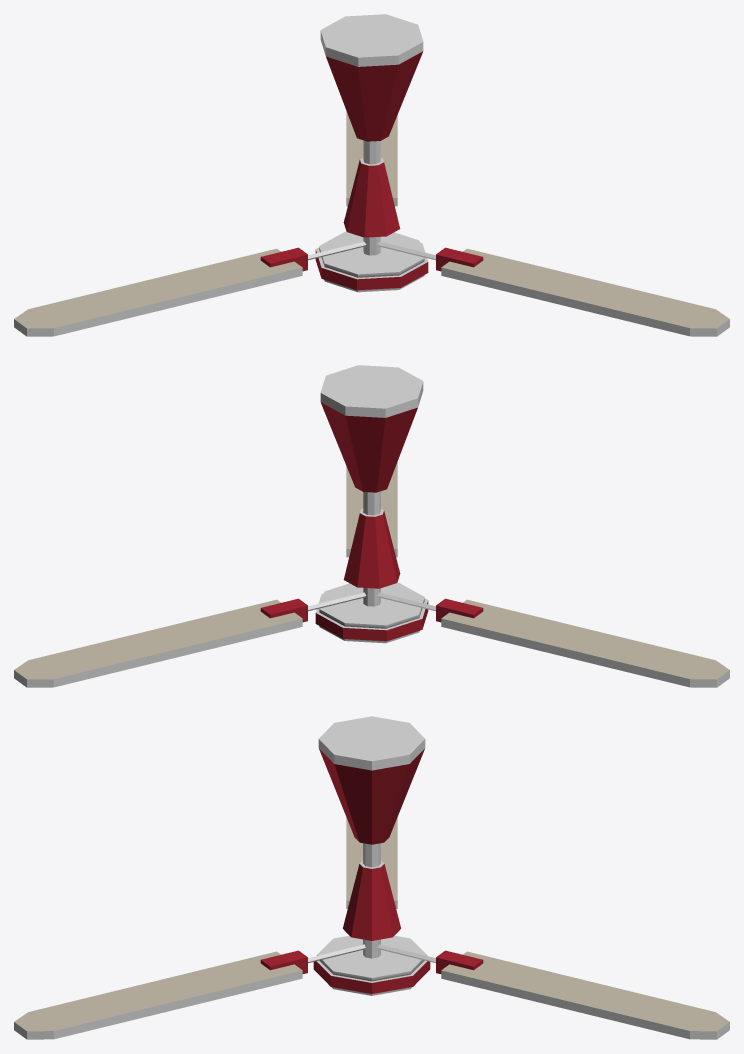
Rendered from Ceiling Fan.fbx.
3 views of the same model, one above another, from view 1: azimuth 30°, elevation 25°; view 2: azimuth 150°, elevation 25°; view 3: azimuth 270°, elevation 25° (orthographic).
Visible parts, largest first — view 1: Fan, Body; view 2: Fan, Body; view 3: Fan, Body.
Boxes of the visible parts, x1,y1,x2,y2 form: Fan: [14, 111, 729, 336]; Body: [315, 14, 428, 292]; Fan: [14, 462, 729, 687]; Body: [315, 365, 428, 643]; Fan: [14, 817, 729, 1039]; Body: [313, 716, 430, 995].
Size of the model in its own units: 120 by 50 by 139.
